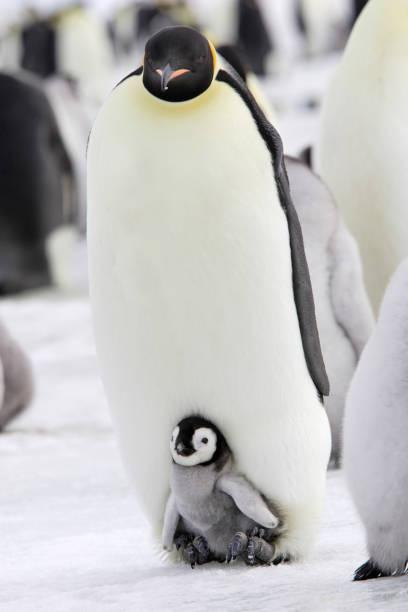emporer: (67, 5, 366, 574)
